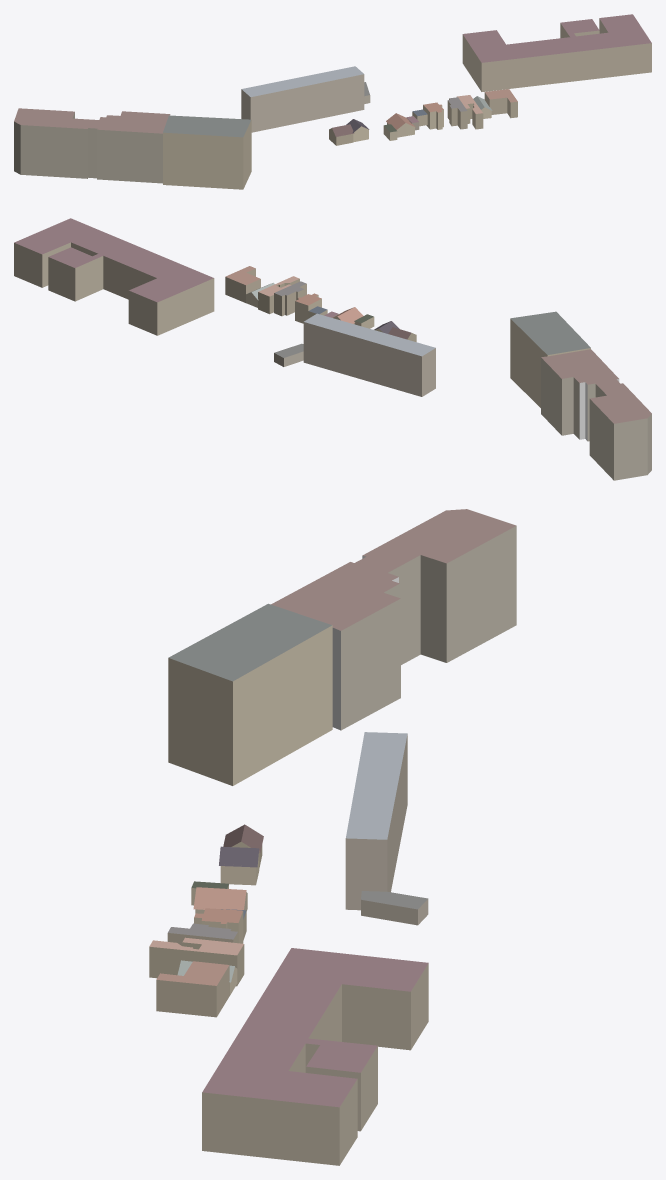
3 views of the same model, one above another, from view 1: azimuth 30°, elevation 25°; view 2: azimuth 150°, elevation 25°; view 3: azimuth 270°, elevation 25° (orthographic). The views are drawn at different scales.
Visible parts, largest first — view 1: tuile; view 2: tuile; view 3: tuile.
Boxes of the visible parts, left/top/right/bottom form: tuile: left=14, top=14, right=651, bottom=189; tuile: left=14, top=218, right=651, bottom=480; tuile: left=149, top=509, right=516, bottom=1165.
Bounding box in the file's own units: 287 × 24.46 × 77.81.
